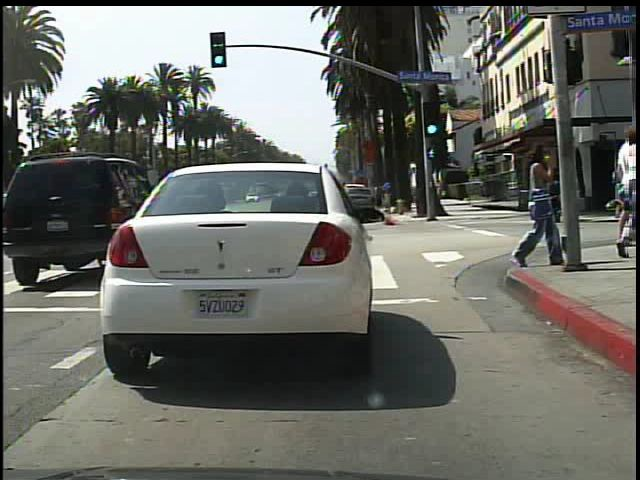person: (507, 139, 559, 271), (617, 121, 639, 262)
